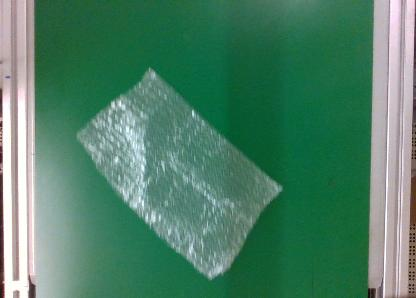Others: (76, 66, 283, 280)
